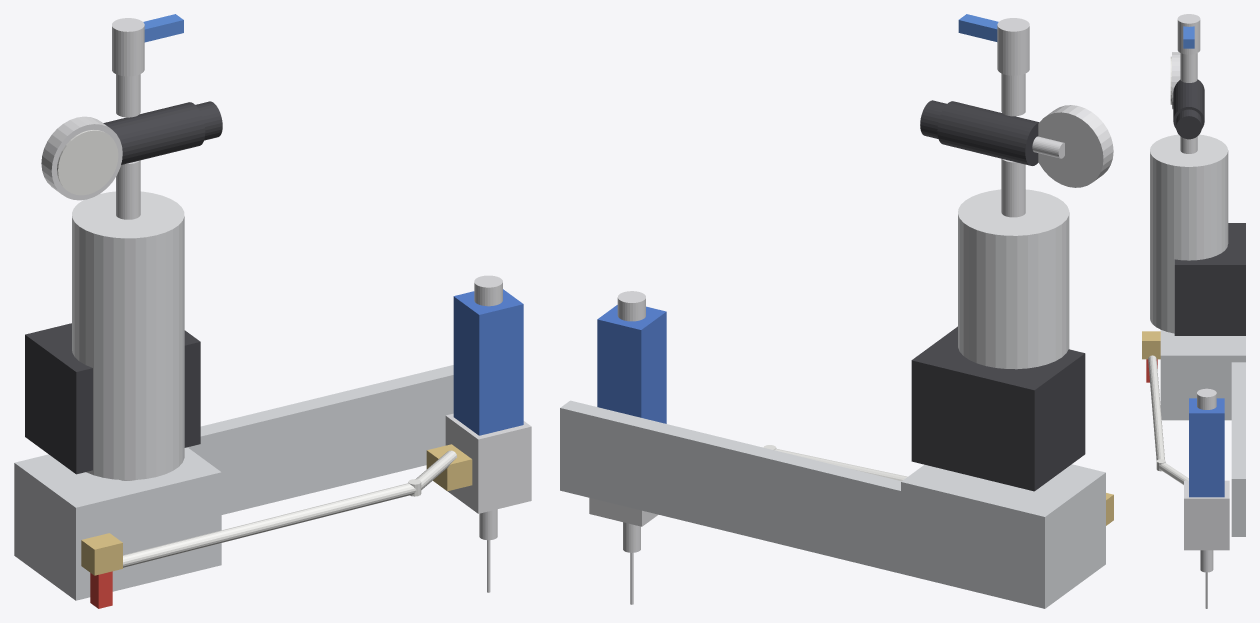
The model's file is dispenser.glb.
3 views of the same model, side by side, from view 1: azimuth 30°, elevation 25°; view 2: azimuth 150°, elevation 25°; view 3: azimuth 270°, elevation 25° (orthographic). The views are drawn at different scales.
Visible parts, largest first — view 1: Z_Head_Tank, Z_Head_Arm, Z_Head_LowerBlock, Z_Head_TankClamp, Z_Head_ValveBody, Z_Head_ValveBlock, Z_Head_Regulator, Z_Head_Tube1, Z_Head_GaugeFace, Z_Head_Gauge, Z_Head_BallValve, Z_Head_OutletFitting (+7 smaller); view 2: Z_Head_Arm, Z_Head_TankClamp, Z_Head_LowerBlock, Z_Head_Tank, Z_Head_ValveBody, Z_Head_Gauge, Z_Head_Regulator, Z_Head_BallValve, Z_Head_TankFitting, Z_Head_ValveBlock, Z_Head_AirFitting, Z_Head_BlueHandle (+1 smaller); view 3: Z_Head_Tank, Z_Head_TankClamp, Z_Head_LowerBlock, Z_Head_ValveBody, Z_Head_ValveBlock, Z_Head_Arm, Z_Head_Regulator, Z_Head_Tube1, Z_Head_BallValve, Z_Head_RegKnob, Z_Head_OutletFitting, Z_Head_AirFitting (+6 smaller).
Boxes of the visible parts, x1,y1,x2,y2 form: Z_Head_Tank: (72, 191, 184, 480); Z_Head_Arm: (188, 365, 453, 514); Z_Head_LowerBlock: (14, 447, 221, 600); Z_Head_TankClamp: (25, 323, 200, 474); Z_Head_ValveBody: (453, 289, 523, 435); Z_Head_ValveBlock: (445, 413, 531, 513); Z_Head_Regulator: (103, 102, 205, 164); Z_Head_Tube1: (123, 483, 416, 567); Z_Head_GaugeFace: (57, 130, 118, 195); Z_Head_Gauge: (41, 116, 122, 200); Z_Head_BallValve: (112, 18, 144, 76); Z_Head_OutletFitting: (81, 533, 122, 575); Z_Head_Arm: (560, 400, 937, 582); Z_Head_TankClamp: (911, 326, 1085, 491); Z_Head_LowerBlock: (901, 464, 1105, 608); Z_Head_Tank: (958, 189, 1069, 369); Z_Head_ValveBody: (597, 305, 666, 423); Z_Head_Gauge: (1038, 105, 1113, 187); Z_Head_Regulator: (937, 101, 1038, 165); Z_Head_BallValve: (997, 18, 1029, 75); Z_Head_TankFitting: (1001, 158, 1025, 217); Z_Head_ValveBlock: (589, 498, 658, 526); Z_Head_AirFitting: (1001, 73, 1025, 116); Z_Head_BlueHandle: (958, 14, 998, 41); Z_Head_Tank: (1150, 134, 1228, 333); Z_Head_TankClamp: (1174, 223, 1245, 335); Z_Head_LowerBlock: (1160, 330, 1245, 420); Z_Head_ValveBody: (1189, 398, 1224, 497); Z_Head_ValveBlock: (1184, 480, 1229, 550); Z_Head_Arm: (1231, 362, 1245, 536); Z_Head_Regulator: (1173, 79, 1204, 128); Z_Head_Tube1: (1148, 355, 1164, 460); Z_Head_BallValve: (1177, 14, 1200, 54); Z_Head_RegKnob: (1176, 109, 1201, 139); Z_Head_OutletFitting: (1142, 331, 1160, 359); Z_Head_AirFitting: (1180, 53, 1197, 82).
Size of the model in its own units: 285 by 359 by 73.
